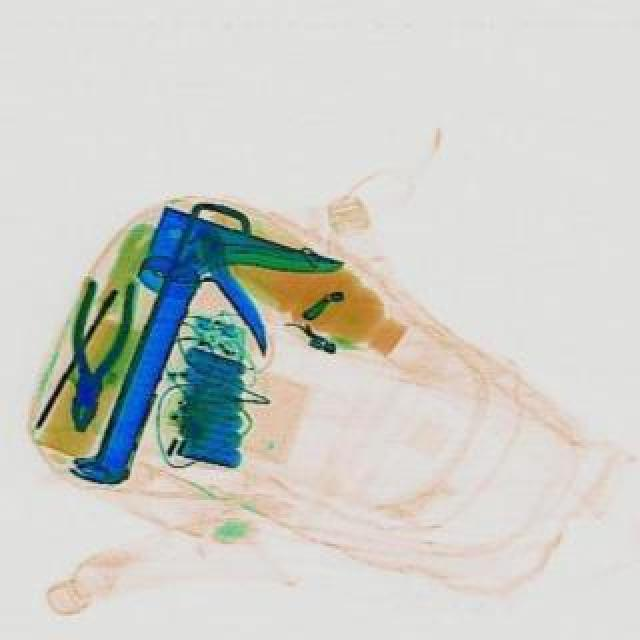knife: (62, 200, 344, 528)
wrench: (48, 274, 146, 438)
